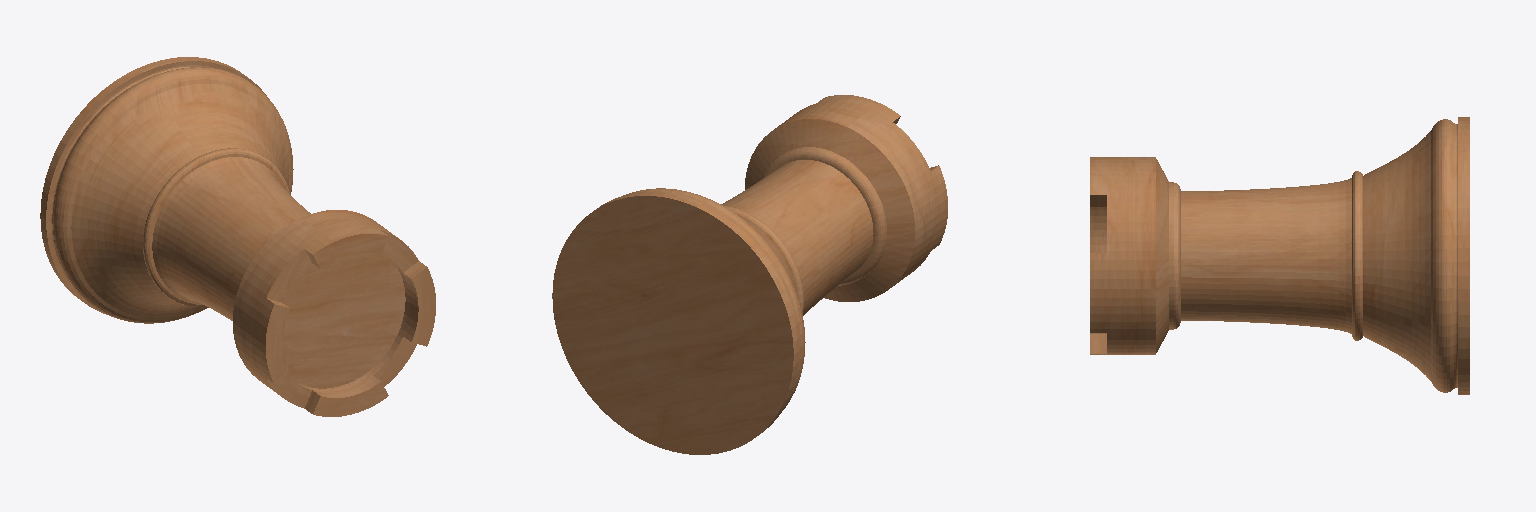
3 renders of one model, left to right at view 1: azimuth 30°, elevation 25°; view 2: azimuth 150°, elevation 25°; view 3: azimuth 270°, elevation 25°, orthographic.
Visible parts, largest first — view 1: rook; view 2: rook; view 3: rook.
Boxes of the visible parts, box(x1,y1,x2,y2) form: rook: box(40, 57, 435, 416); rook: box(552, 95, 947, 454); rook: box(1090, 117, 1469, 394).
Bounding box in the file's own units: 27.77 × 27.77 × 37.82.
Materials: 1 (1 with a texture image).